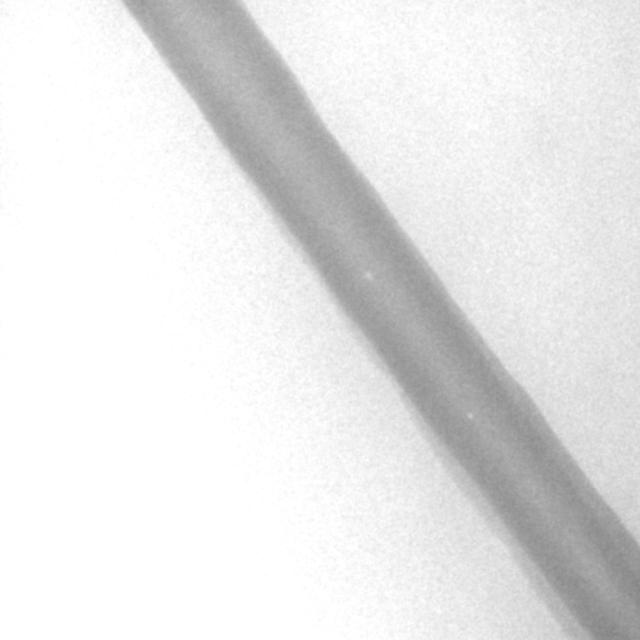air-hole: (365, 268, 377, 282), (467, 411, 475, 422)
